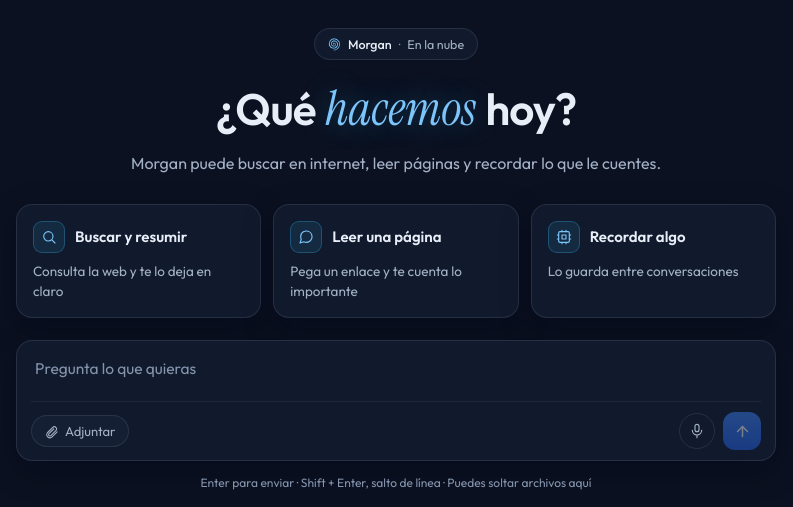
it: La conexión se corta a mitad del turno › si terminó antes de la primera mirada, también la reconoce
In the text box: x=396, y=378 [31,355,761,401], type "hola"
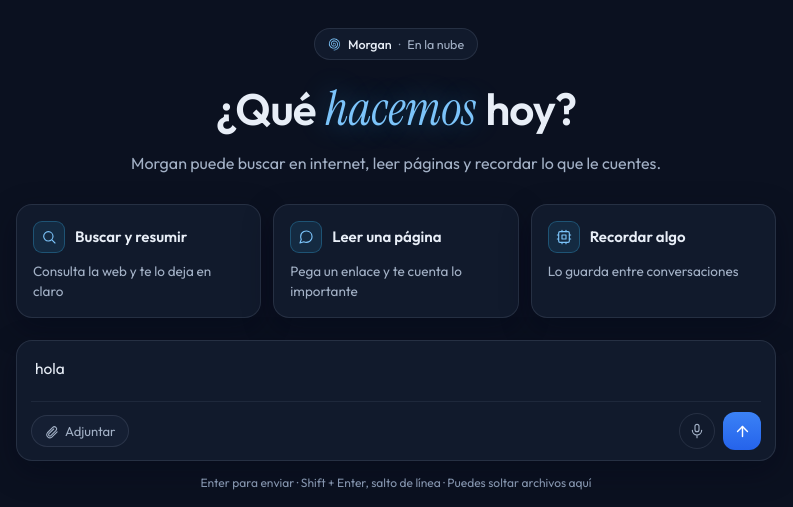
Press Enter in the text box, box [31,355,761,401]
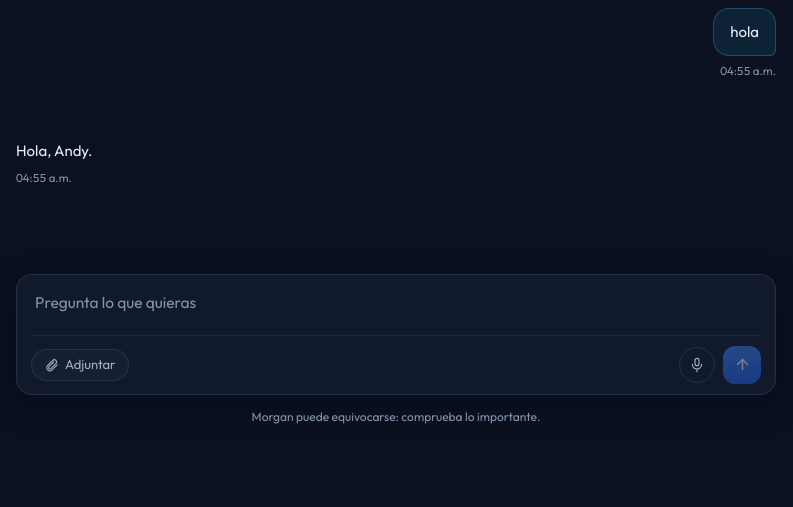
expect the text "Hola, Andy." is shown: met, box [16,141,92,160]
